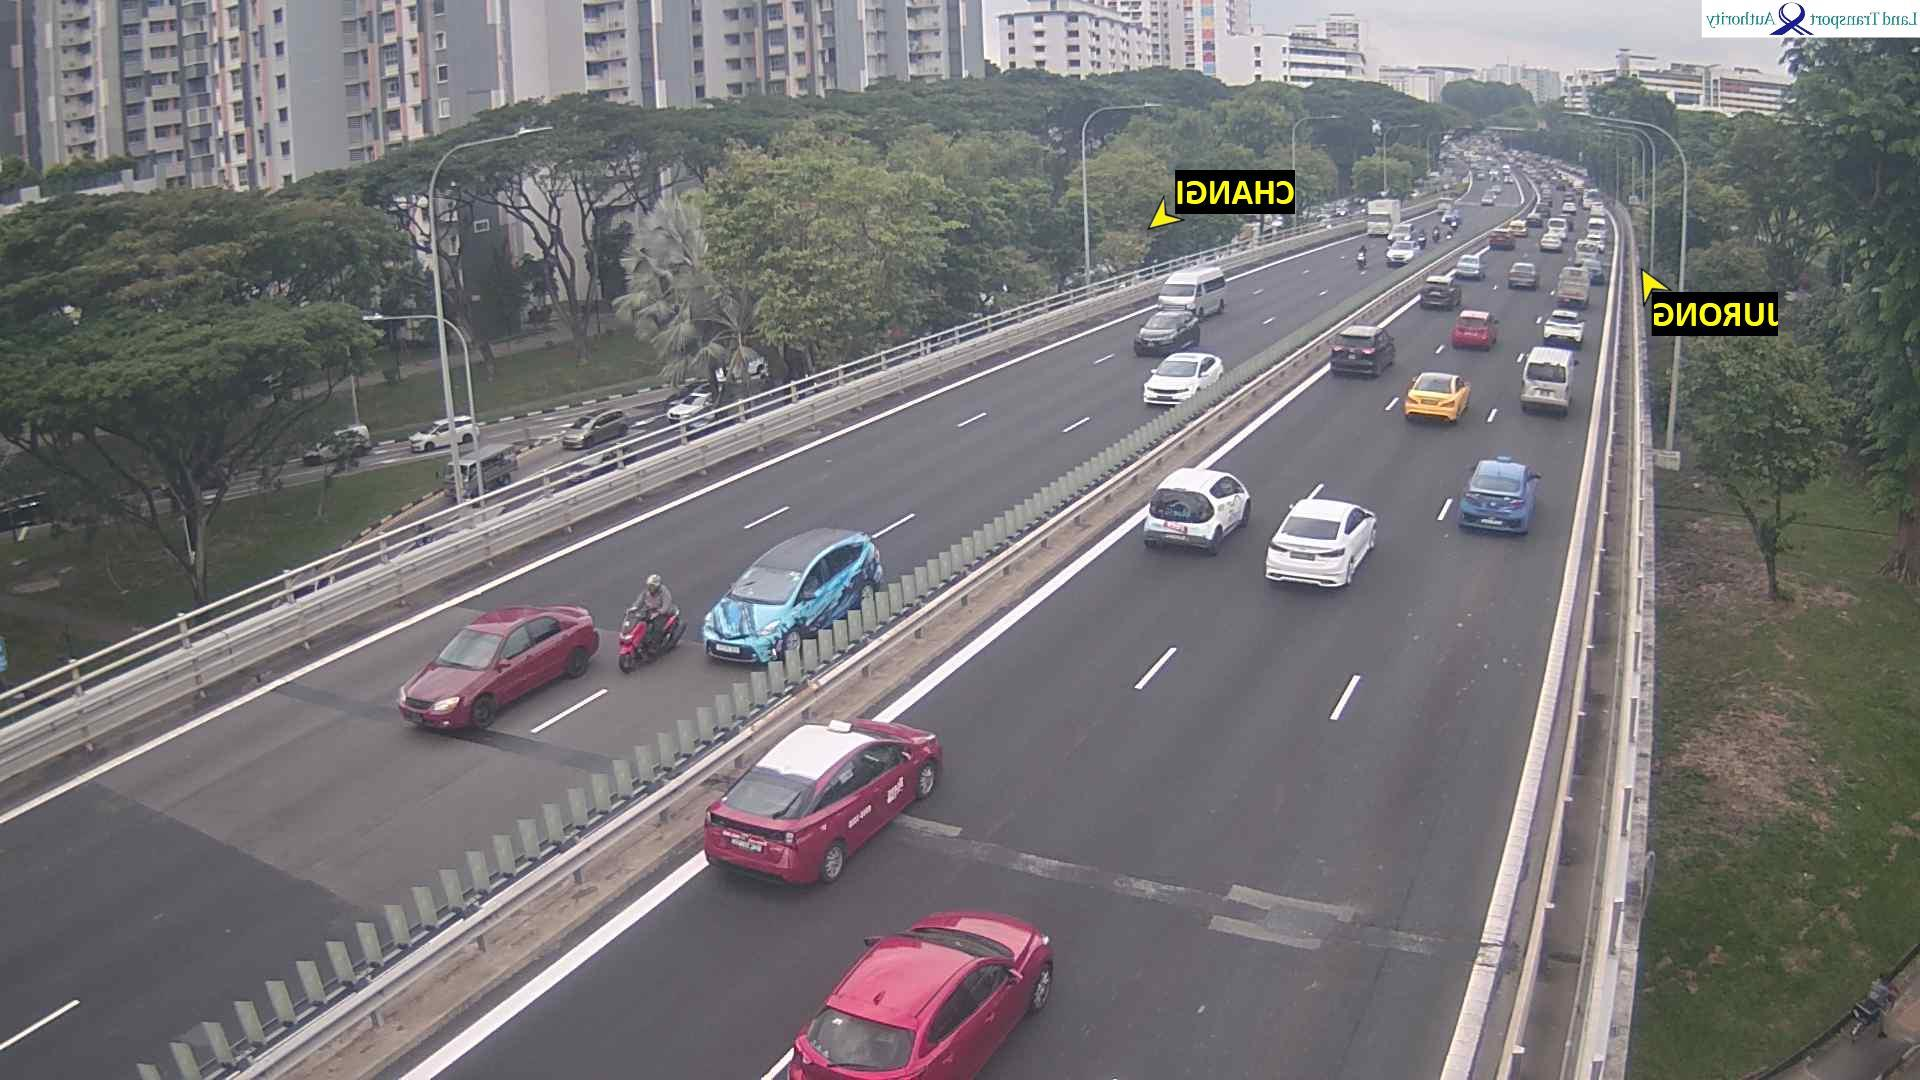cars: (788, 909, 1055, 1078), (704, 715, 944, 886), (398, 602, 600, 732), (703, 526, 886, 665), (1265, 484, 1380, 588), (1143, 466, 1252, 555), (1459, 454, 1543, 535), (1143, 350, 1225, 406), (445, 443, 520, 499), (1520, 344, 1579, 415), (1157, 264, 1228, 318), (1330, 323, 1397, 378), (1404, 370, 1472, 422), (1134, 307, 1202, 356), (561, 407, 631, 450), (303, 423, 373, 465), (410, 413, 482, 452), (710, 338, 770, 381), (667, 381, 715, 423), (1452, 308, 1501, 349), (1551, 262, 1592, 308), (1542, 307, 1587, 346), (1421, 272, 1463, 309), (1575, 252, 1607, 285), (1386, 236, 1419, 265), (1508, 260, 1539, 289), (1456, 251, 1486, 279), (1385, 221, 1415, 249), (1572, 239, 1600, 264), (1542, 217, 1569, 241), (1488, 229, 1516, 250), (1540, 229, 1564, 251), (1584, 230, 1608, 252), (1433, 195, 1456, 216), (1583, 217, 1607, 236), (1442, 207, 1463, 227), (1507, 216, 1529, 235), (1524, 211, 1543, 229), (1588, 201, 1605, 217), (1560, 200, 1578, 215), (1535, 195, 1553, 209), (1558, 191, 1575, 203), (1536, 206, 1552, 218), (1479, 193, 1493, 206), (1484, 187, 1497, 199), (1503, 173, 1515, 185), (1473, 171, 1486, 182), (1489, 174, 1501, 183), (1490, 184, 1503, 192), (1555, 181, 1565, 191), (1541, 190, 1553, 198)
motorcycle: (618, 599, 687, 672), (1351, 244, 1368, 271), (1427, 221, 1442, 244), (1415, 228, 1427, 251), (1449, 214, 1461, 232)
trucks: (1359, 194, 1407, 244), (1578, 187, 1599, 211)
